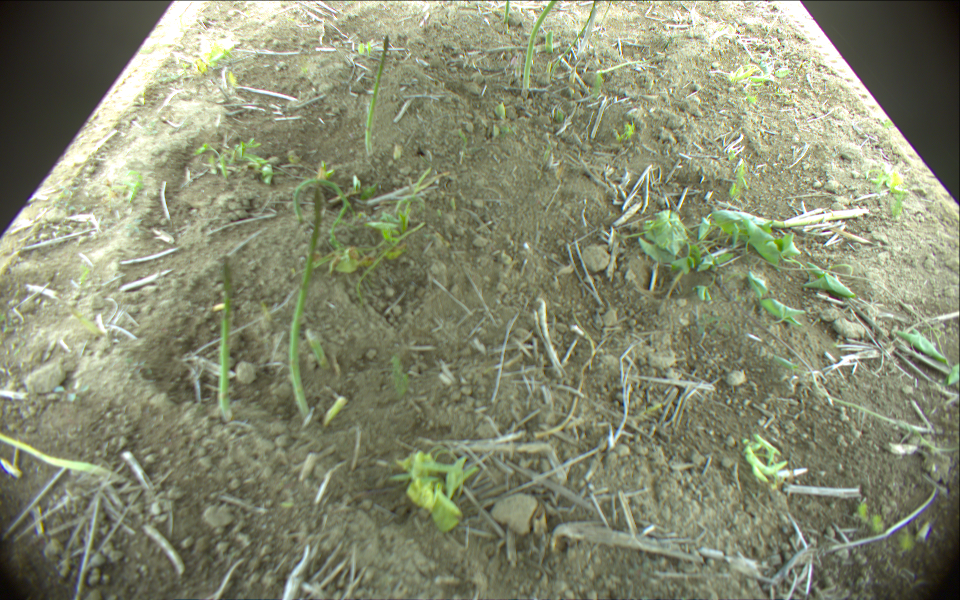aspa: (289, 186, 323, 419), (1, 432, 113, 480), (363, 39, 393, 155), (215, 255, 233, 422), (524, 1, 556, 89), (728, 211, 863, 228), (598, 56, 663, 74), (322, 397, 345, 427), (544, 31, 555, 53), (515, 52, 522, 78), (504, 1, 510, 24)
